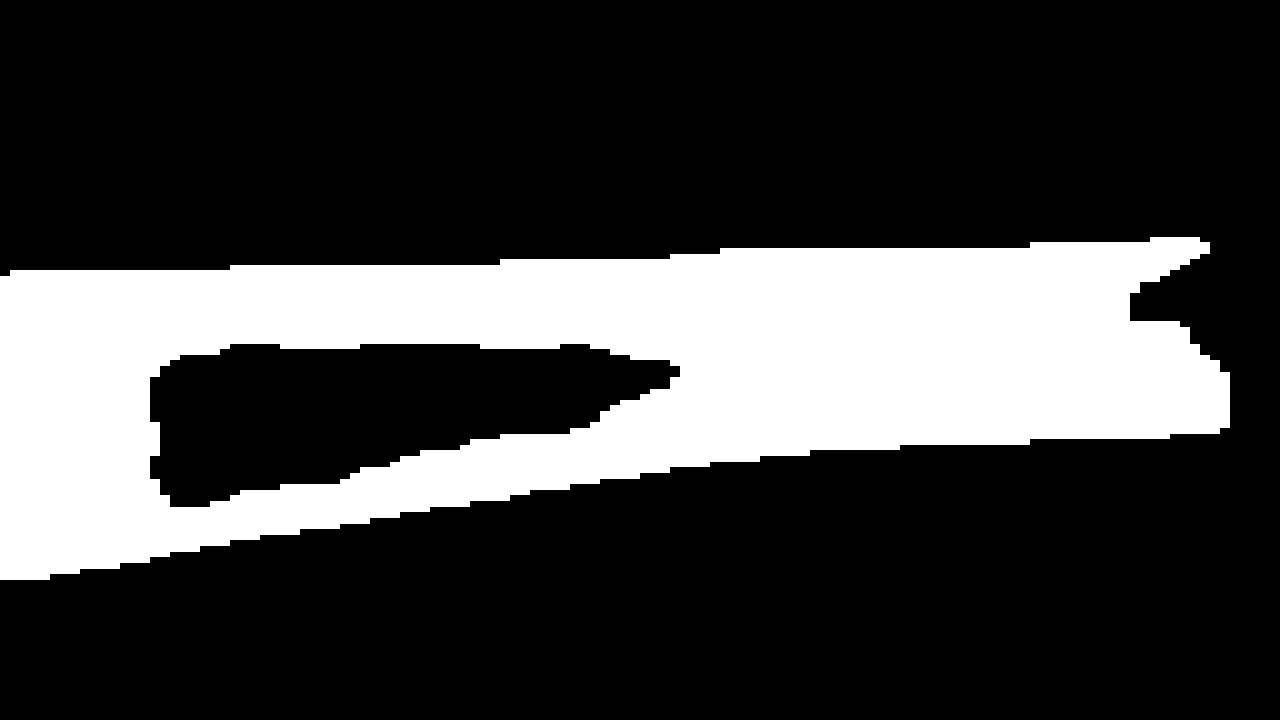Turbine: (2, 217, 1221, 590)
